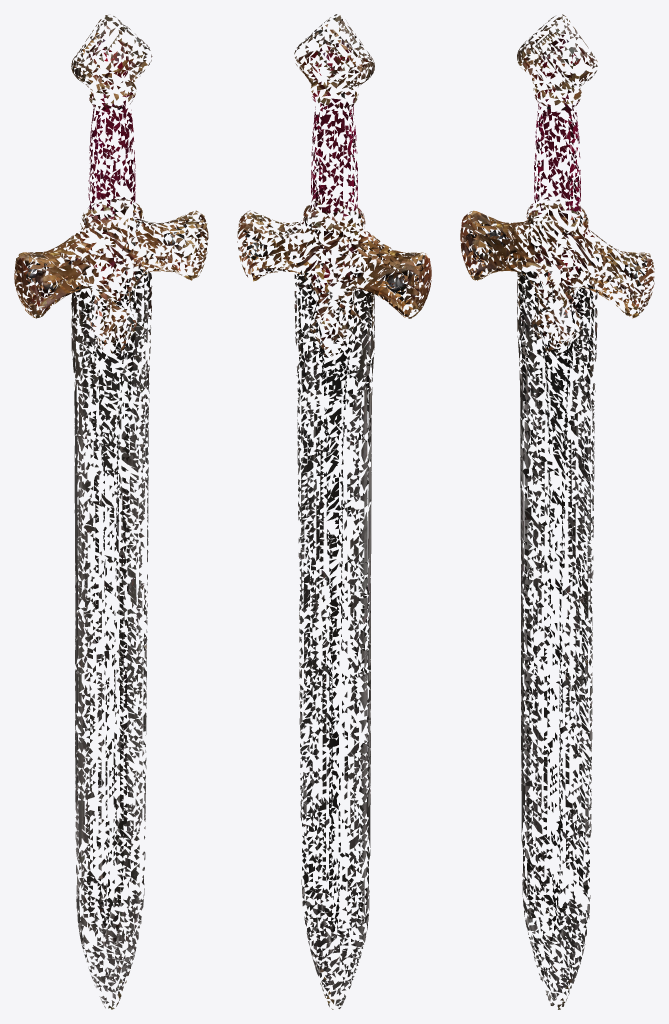
The model's file is b_greatsword.glb.
The picture shows the model from 3 angles, left to right: view 1: azimuth 30°, elevation 25°; view 2: azimuth 150°, elevation 25°; view 3: azimuth 330°, elevation 25°; orthographic projection.
Visible parts, largest first — view 1: shape_clean_textured; view 2: shape_clean_textured; view 3: shape_clean_textured.
Boxes of the visible parts, x1,y1,x2,y2 form: shape_clean_textured: (14,15,208,1009); shape_clean_textured: (237,14,431,1009); shape_clean_textured: (460,14,654,1009).
Size of the model in its own units: 0.388 by 1.99 by 0.0938.
1 material, 1 textured.
